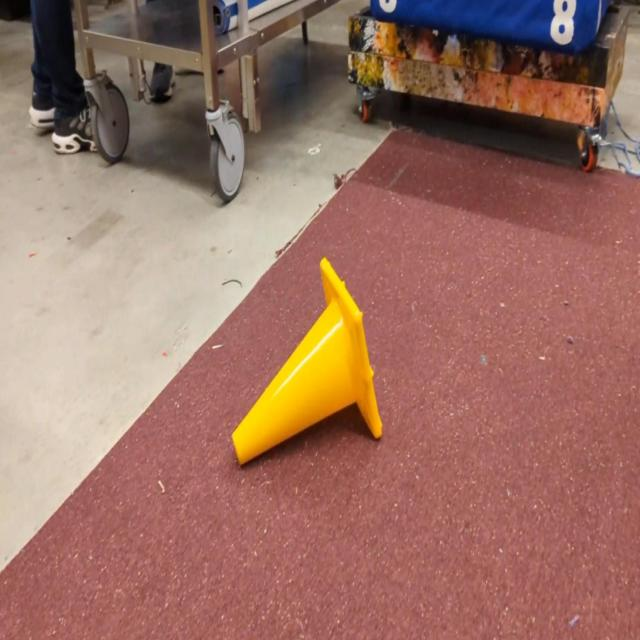frc_cone: (232, 255, 382, 466)
